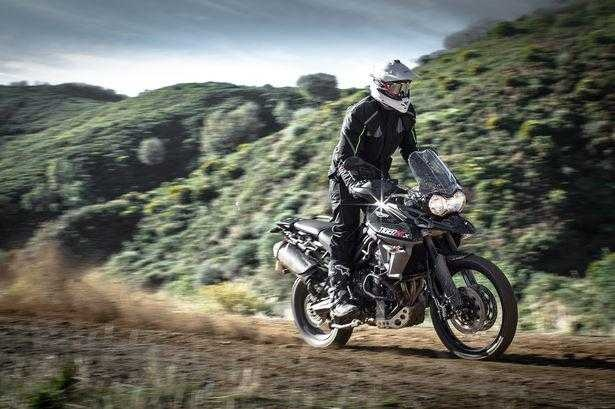motorbike: (268, 149, 518, 362)
